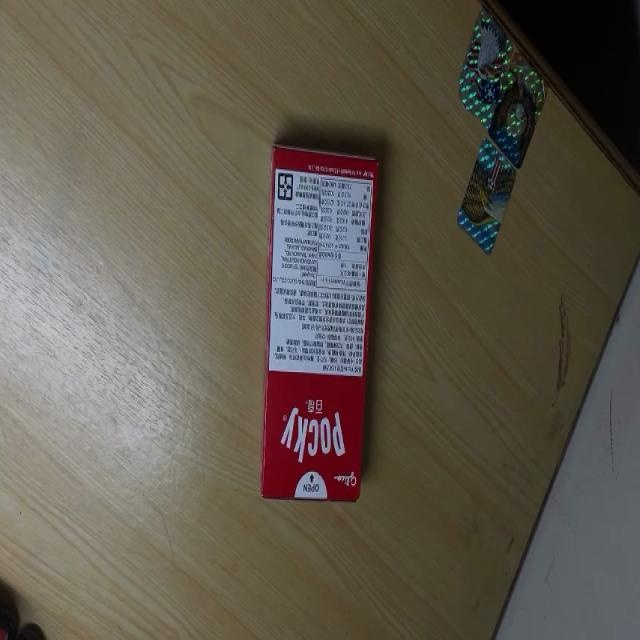Pocky: (260, 142, 378, 502)
